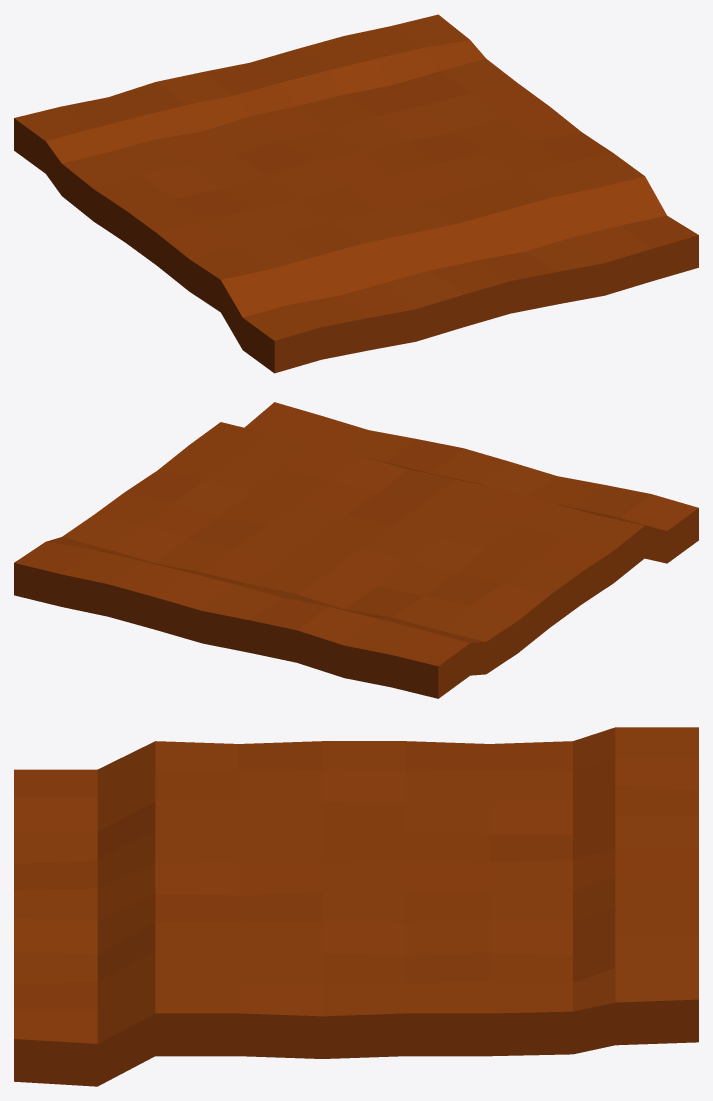
Rendered from Map_LowPoly.fbx.
3 views of the same model, one above another, from view 1: azimuth 30°, elevation 25°; view 2: azimuth 150°, elevation 25°; view 3: azimuth 270°, elevation 25° (orthographic). The views are drawn at different scales.
Parts seen in each view (by area): view 1: Map1; view 2: Map1; view 3: Map1.
Part boxes in pixels (box(x1,y1,x2,y2)): Map1: box(14, 14, 698, 373); Map1: box(14, 402, 698, 698); Map1: box(14, 727, 698, 1086).
Bounding box in the file's own units: 3017 × 472 × 3207.
